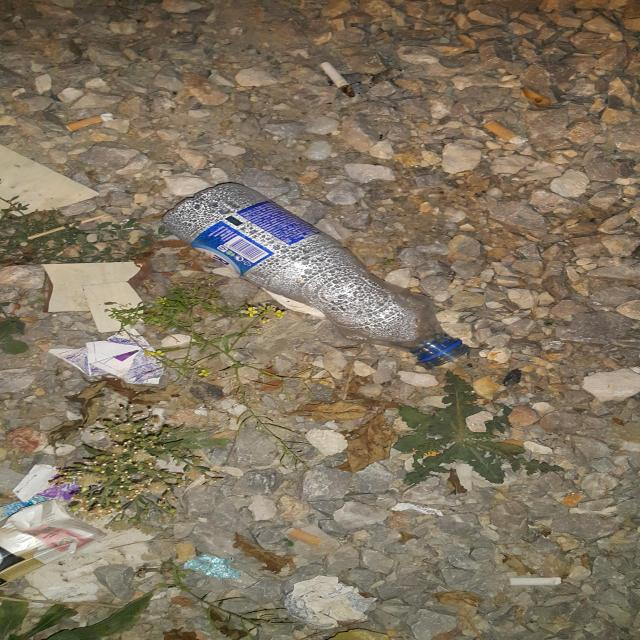litter: (163, 183, 471, 367), (1, 500, 106, 587), (48, 329, 163, 384), (285, 575, 376, 629), (12, 464, 80, 502), (320, 62, 356, 97), (184, 557, 240, 579), (0, 500, 48, 521), (66, 113, 113, 131), (284, 527, 325, 547), (509, 577, 561, 585)
